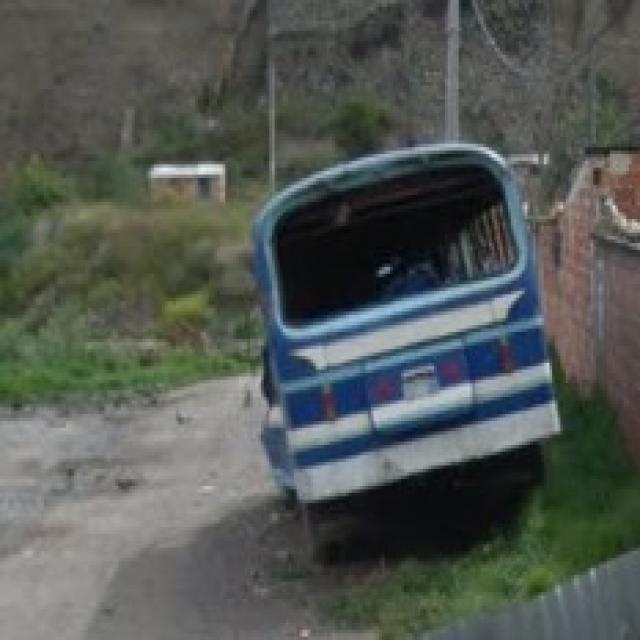Car: (257, 151, 566, 518)
